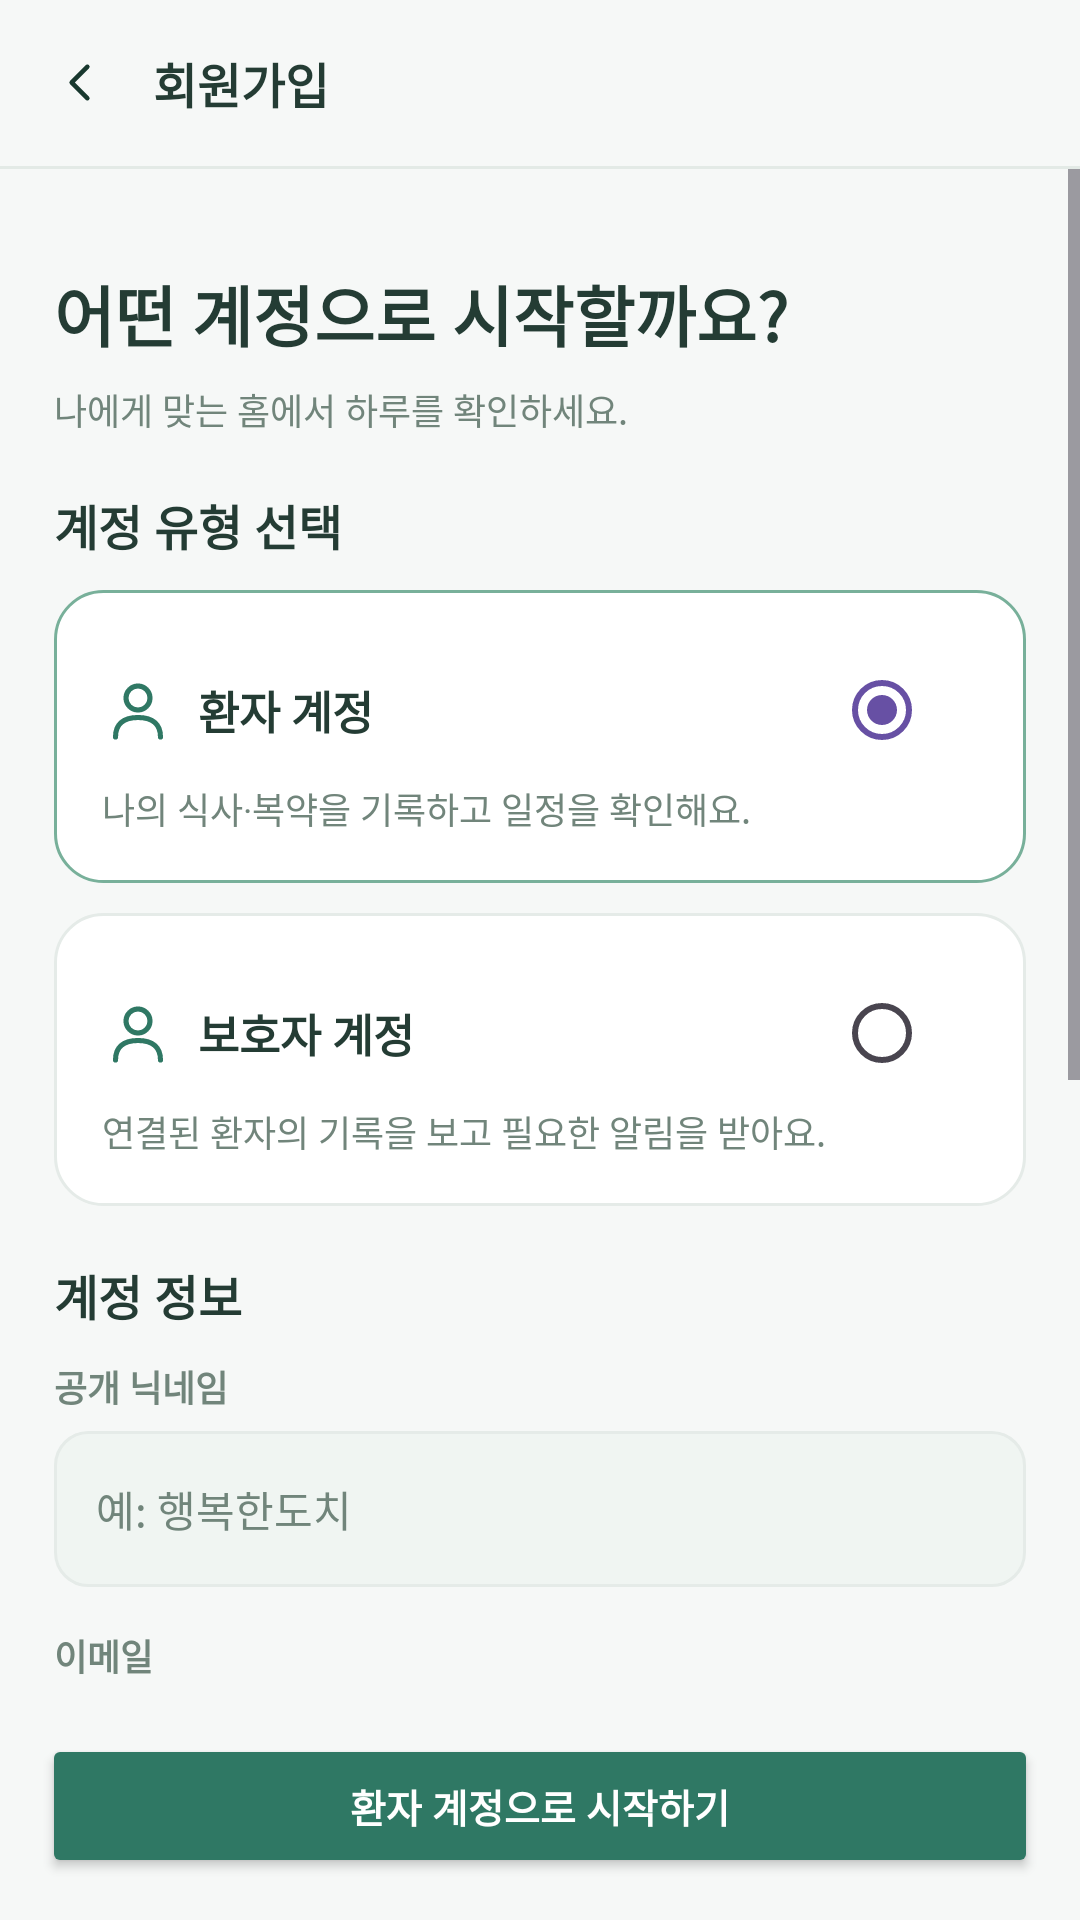

Icon click points for this 1080px x 1920px phone screenshot, format (x=x, y=y):
back: (x=79, y=82)
user: (x=138, y=711), (x=138, y=1034)
